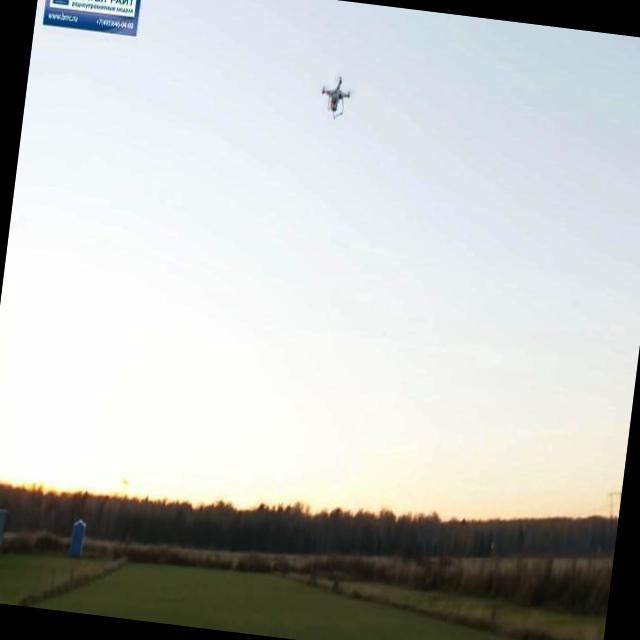drone: (315, 63, 356, 124)
